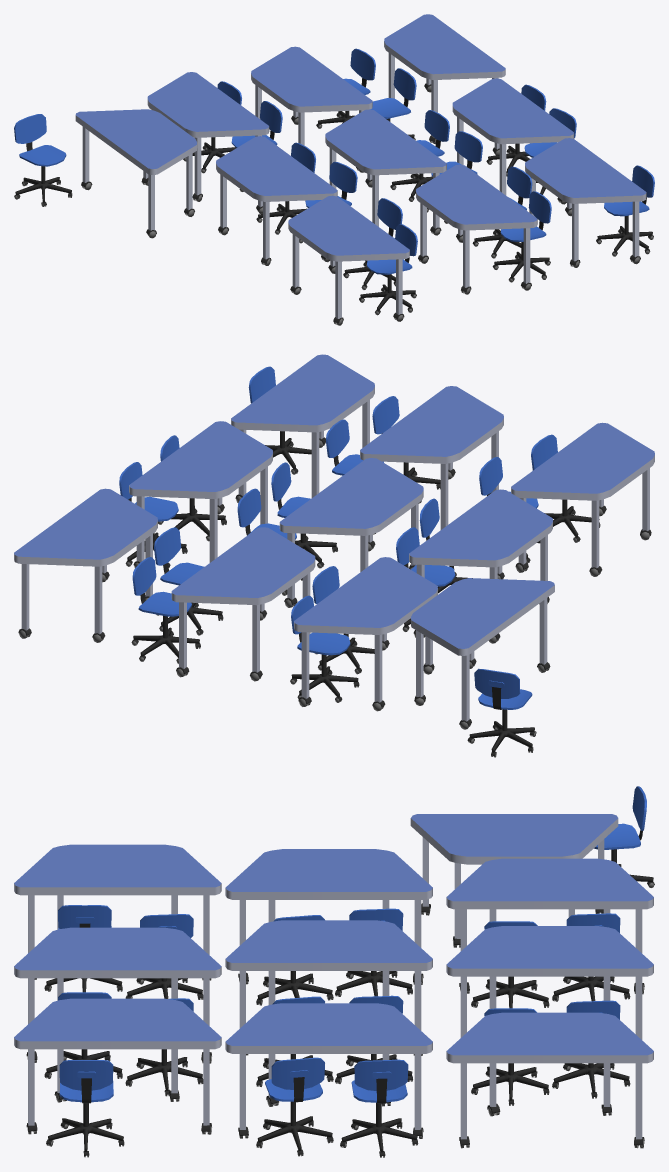
Rendered from tablechairV2.fbx.
The picture shows the model from 3 angles, top to bottom: view 1: azimuth 30°, elevation 25°; view 2: azimuth 150°, elevation 25°; view 3: azimuth 270°, elevation 25°; orthographic projection. The views are drawn at different scales.
Visible parts, largest first — view 1: table_blue10, table_blue, table_blue6, table_blue3, table_blue7, table_blue1, table_blue5, table_blue4, table_blue2, table_blue8, chair_blue14, chair_blue (+14 smaller); view 2: table_blue10, table_blue5, table_blue8, table_blue6, table_blue2, table_blue4, table_blue3, table_blue1, table_blue, table_blue7, chair_blue14, chair_blue5 (+14 smaller); view 3: table_blue5, table_blue3, table_blue4, table_blue2, table_blue1, table_blue6, table_blue, table_blue7, table_blue8, table_blue10, chair_blue9, chair_blue8 (+14 smaller).
Boxes of the visible parts, <box> form: table_blue10: <box>75,109,197,238</box>; table_blue: <box>416,164,537,294</box>; table_blue6: <box>288,195,409,325</box>; table_blue3: <box>525,138,646,267</box>; table_blue7: <box>216,136,337,265</box>; table_blue1: <box>325,109,446,235</box>; table_blue5: <box>384,14,505,144</box>; table_blue4: <box>452,78,573,204</box>; table_blue2: <box>251,46,372,172</box>; table_blue8: <box>147,72,269,201</box>; chair_blue14: <box>14,114,72,206</box>; chair_blue: <box>492,191,551,282</box>; table_blue10: <box>411,578,554,729</box>; table_blue5: <box>14,488,157,642</box>; table_blue8: <box>294,557,437,711</box>; table_blue6: <box>511,422,654,576</box>; table_blue2: <box>171,527,315,681</box>; table_blue4: <box>129,421,272,567</box>; table_blue3: <box>231,354,374,502</box>; table_blue1: <box>279,458,423,607</box>; table_blue: <box>360,386,503,534</box>; table_blue7: <box>409,489,552,643</box>; chair_blue14: <box>467,668,536,757</box>; chair_blue5: <box>131,557,200,663</box>; table_blue5: <box>446,1012,653,1148</box>; table_blue3: <box>14,998,221,1134</box>; table_blue4: <box>225,1003,432,1138</box>; table_blue2: <box>446,926,653,1039</box>; table_blue1: <box>225,920,432,1055</box>; table_blue6: <box>14,844,221,980</box>; table_blue: <box>14,927,221,1063</box>; table_blue7: <box>225,849,432,984</box>; table_blue8: <box>446,858,653,994</box>; table_blue10: <box>410,814,618,947</box>; chair_blue9: <box>256,1057,333,1156</box>; chair_blue8: <box>340,1059,418,1157</box>.
Bounding box in the file's own units: 0.1206 × 0.0191 × 0.1143.
